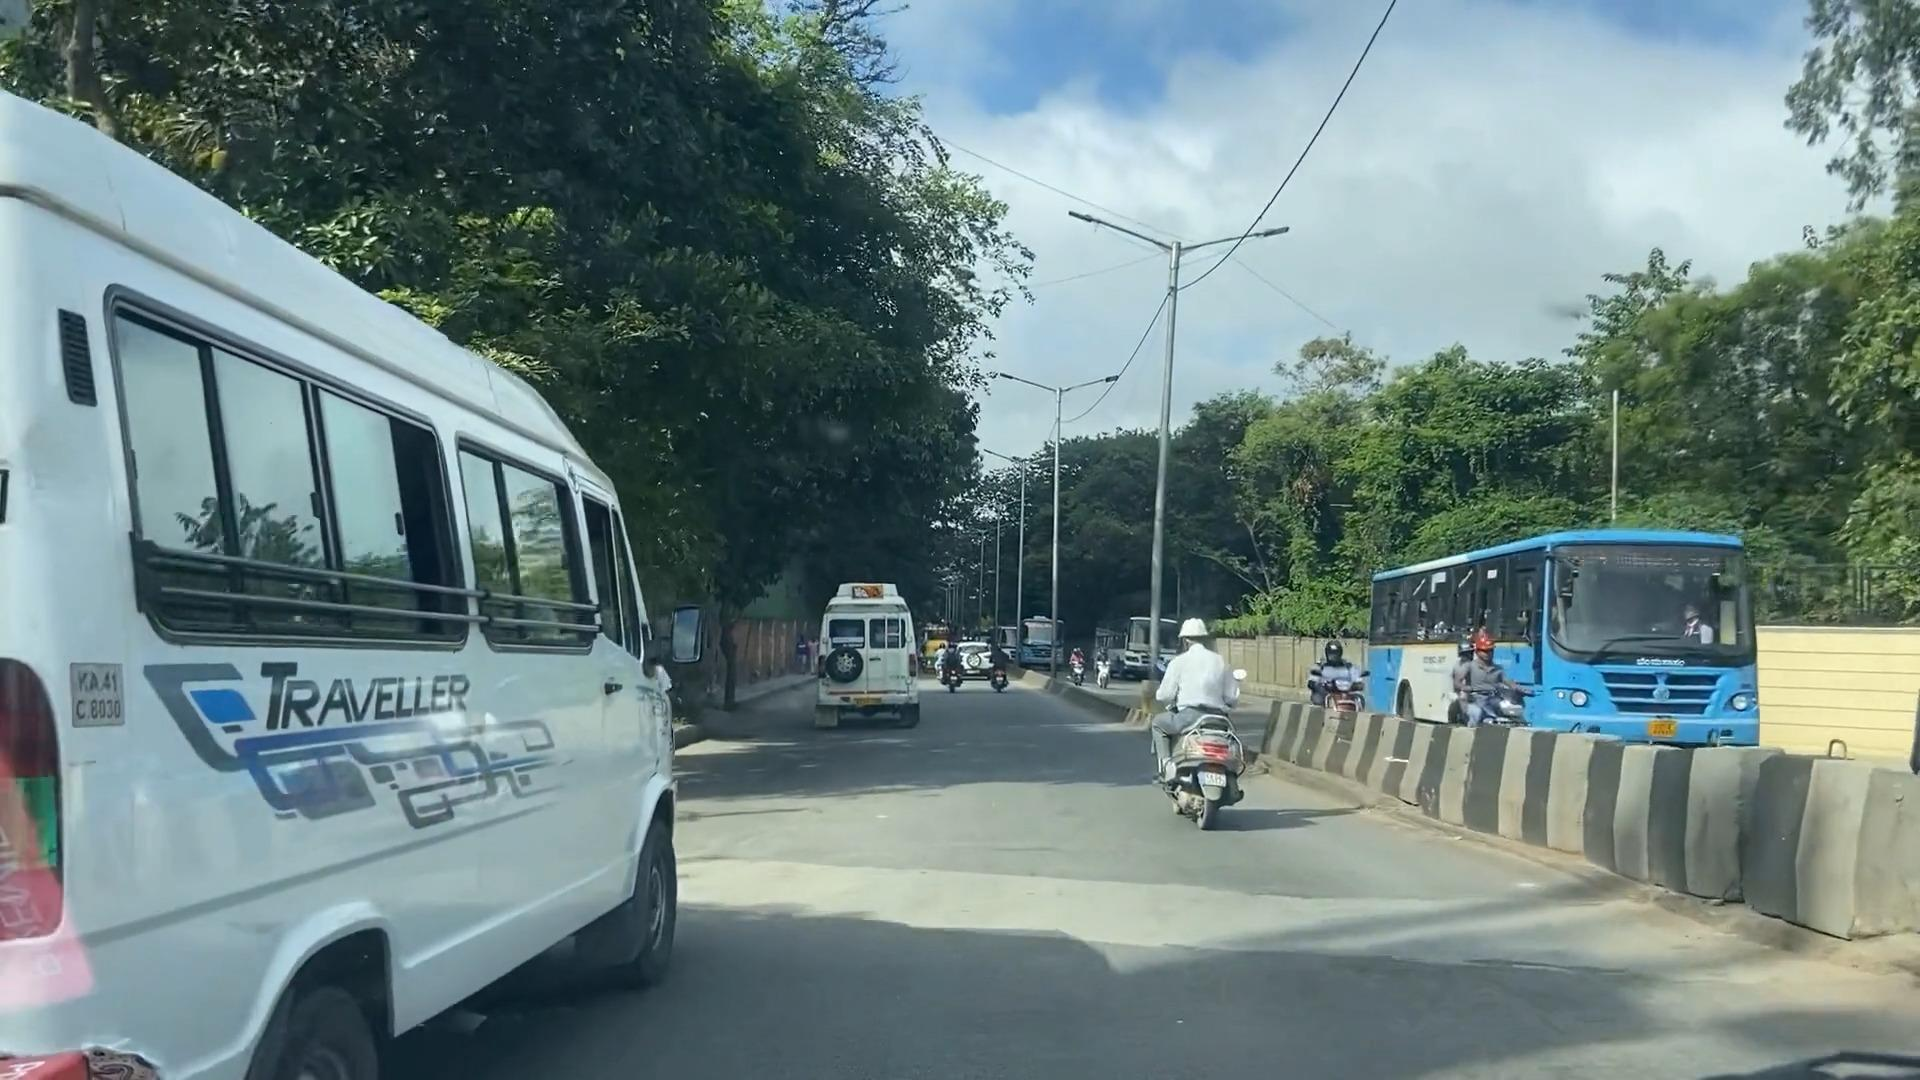HMV: (0, 55, 679, 1080), (808, 593, 918, 738)
LMV: (1153, 611, 1241, 831)
